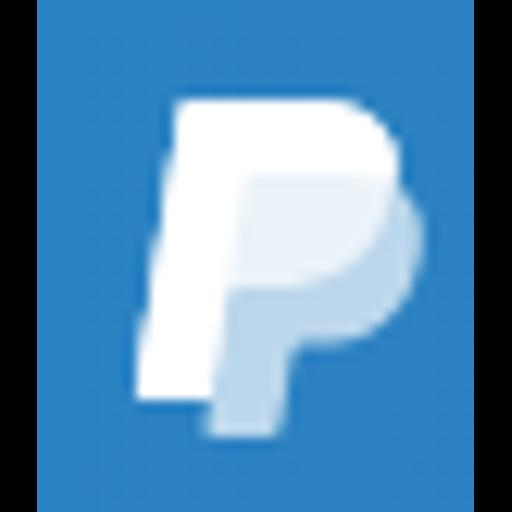PayPal: (37, 0, 474, 512)
